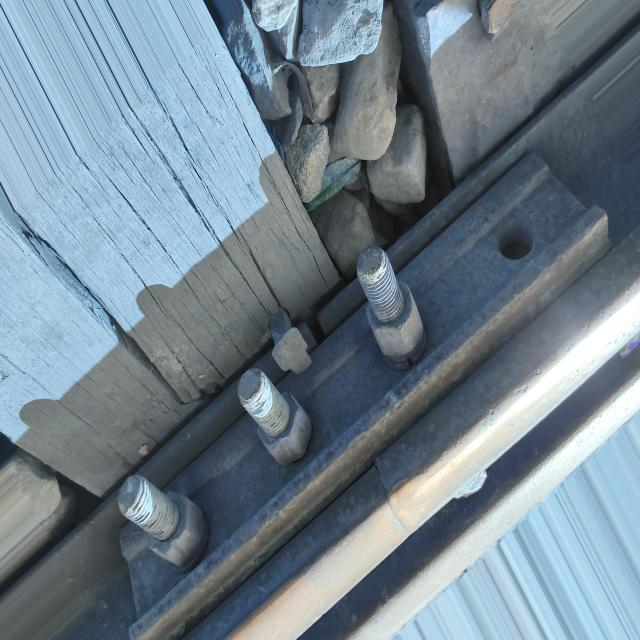Defective Joint: (109, 147, 619, 640)
